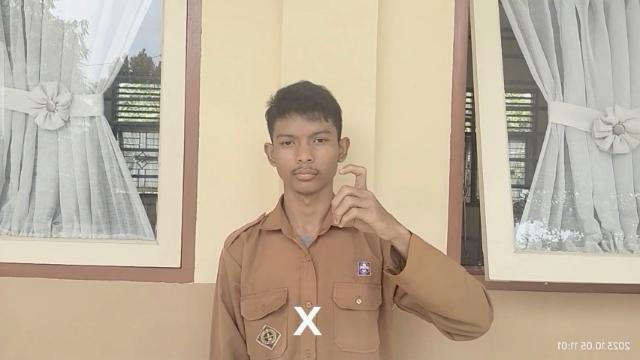X: (324, 160, 388, 242)
